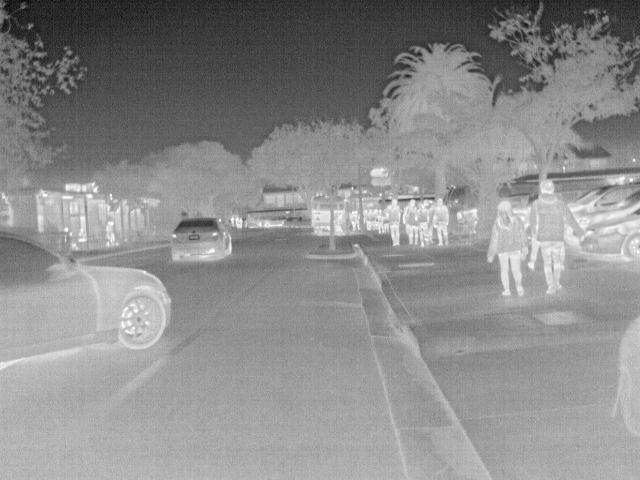car: (1, 227, 173, 364), (569, 181, 639, 229), (580, 207, 638, 263), (169, 218, 234, 264), (614, 314, 638, 437), (454, 206, 477, 232), (260, 214, 289, 228)
person: (527, 178, 578, 297), (484, 203, 529, 298), (384, 195, 403, 249), (430, 194, 450, 245), (403, 196, 421, 246), (102, 218, 120, 250), (62, 226, 80, 251), (348, 207, 363, 230), (362, 207, 374, 232), (333, 212, 344, 235), (75, 226, 89, 243)
